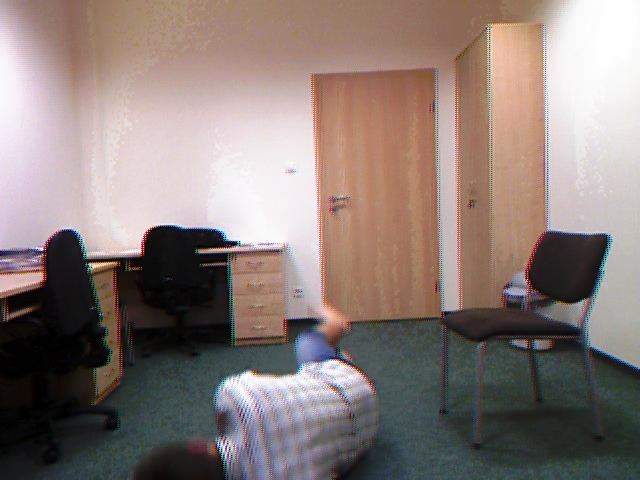fall: (147, 322, 397, 480)
